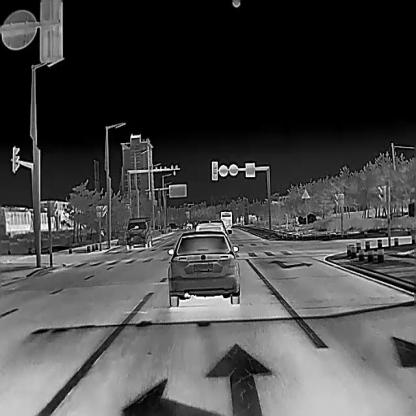car: (166, 230, 240, 306), (126, 215, 152, 248)
truck: (220, 211, 232, 232)
